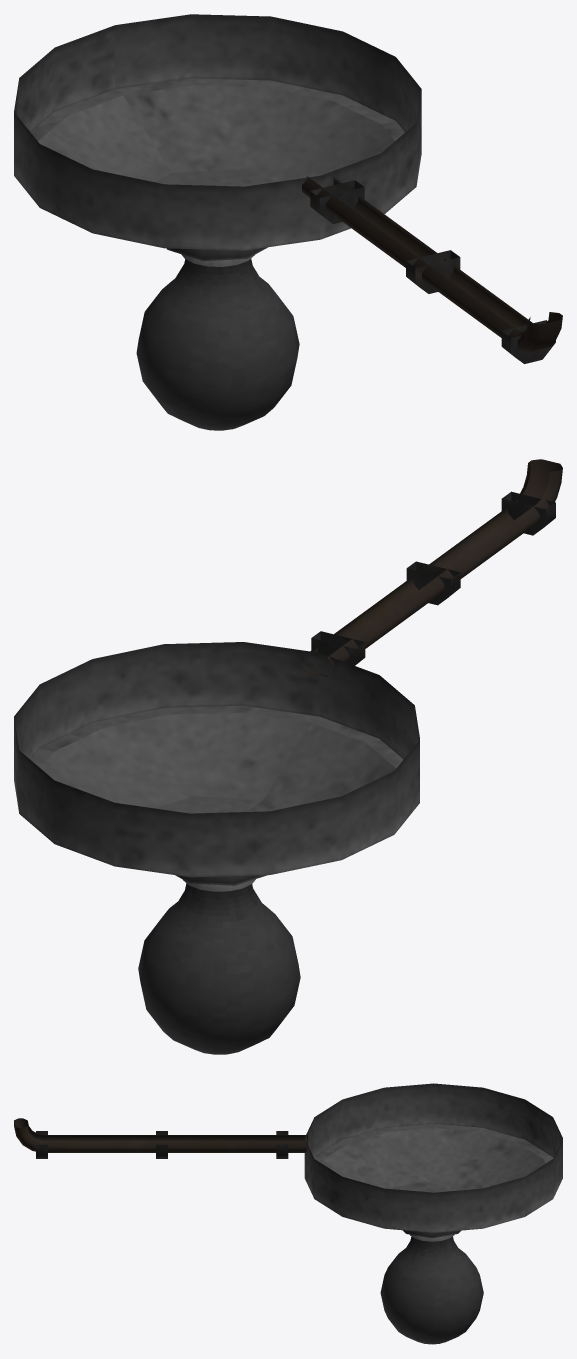
Rendered from ceiling_lamp_mp_1_off.obj.
3 views of the same model, one above another, from view 1: azimuth 30°, elevation 25°; view 2: azimuth 150°, elevation 25°; view 3: azimuth 270°, elevation 25° (orthographic). The views are drawn at different scales.
Parts seen in each view (by area): view 1: ceiling_lamp_mp_1_off; view 2: ceiling_lamp_mp_1_off; view 3: ceiling_lamp_mp_1_off.
Part boxes in pixels (bbox=[...]): ceiling_lamp_mp_1_off: bbox=[14, 14, 562, 430]; ceiling_lamp_mp_1_off: bbox=[14, 459, 562, 1054]; ceiling_lamp_mp_1_off: bbox=[14, 1083, 562, 1344].
Size of the model in its own units: 0.215 by 0.1988 by 0.4568.
